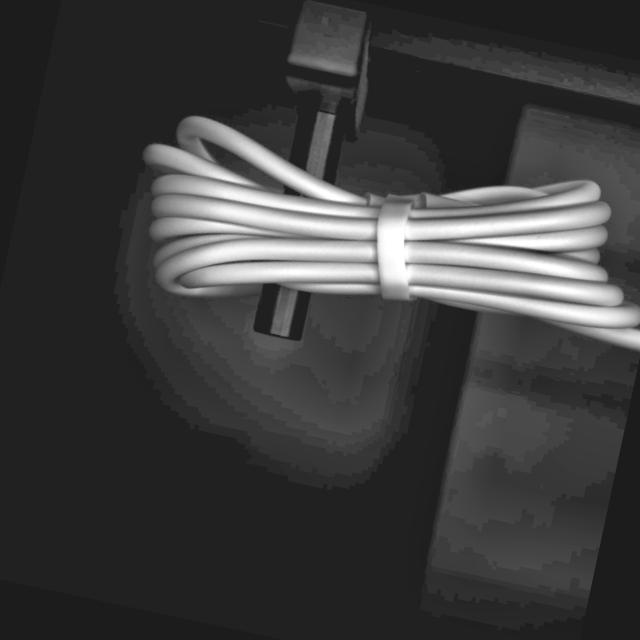Cable: (107, 83, 640, 395)
